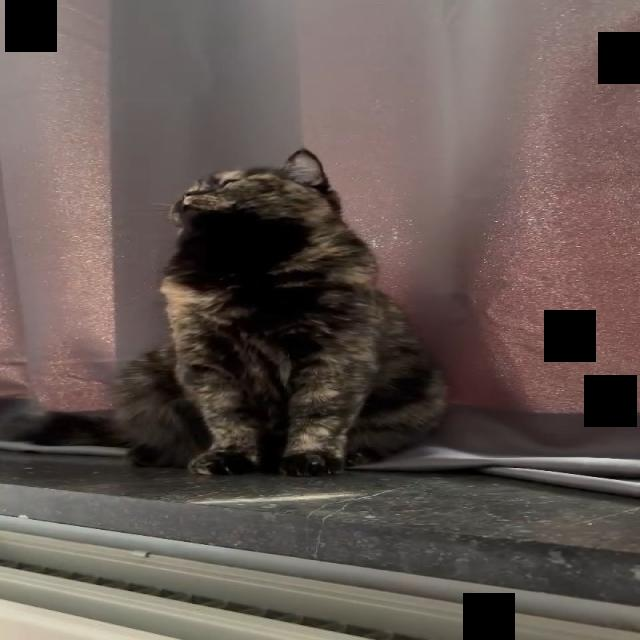authorized: (108, 147, 449, 477)
